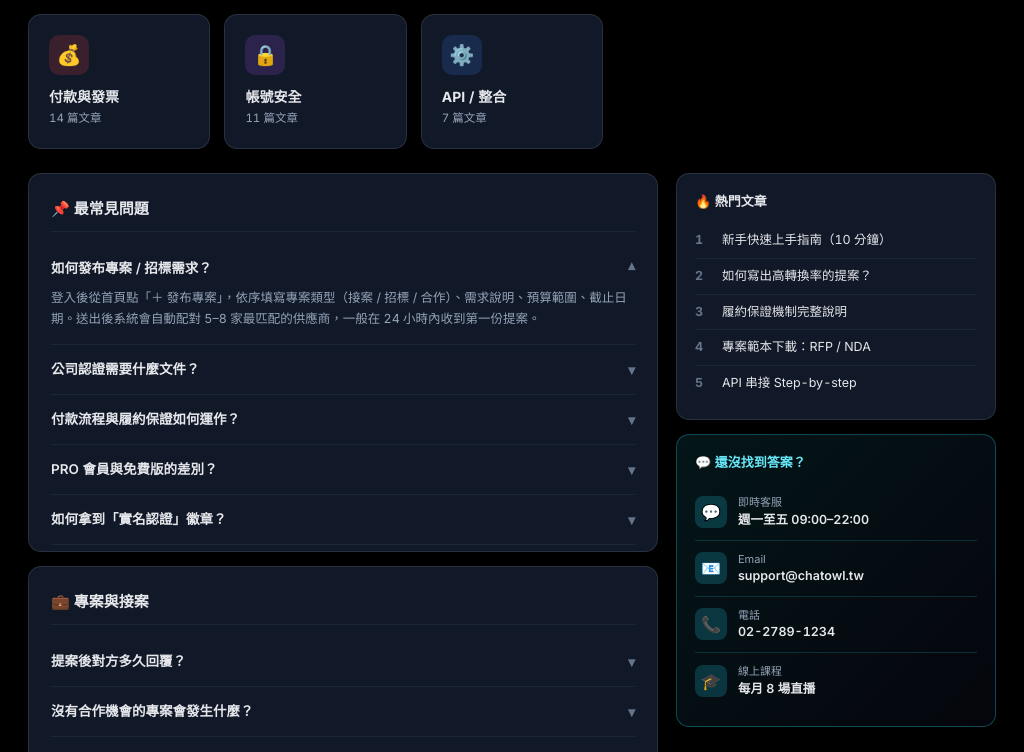
Test case: HelpPage › clicking a collapsed FAQ item expands it
(page scrolled)
What coordinates should you click on to do the following:
click the button "公司認證需要什麼文件？ ▾"
I would click on:
 (125, 369)
Its box is [51,358,635,380].
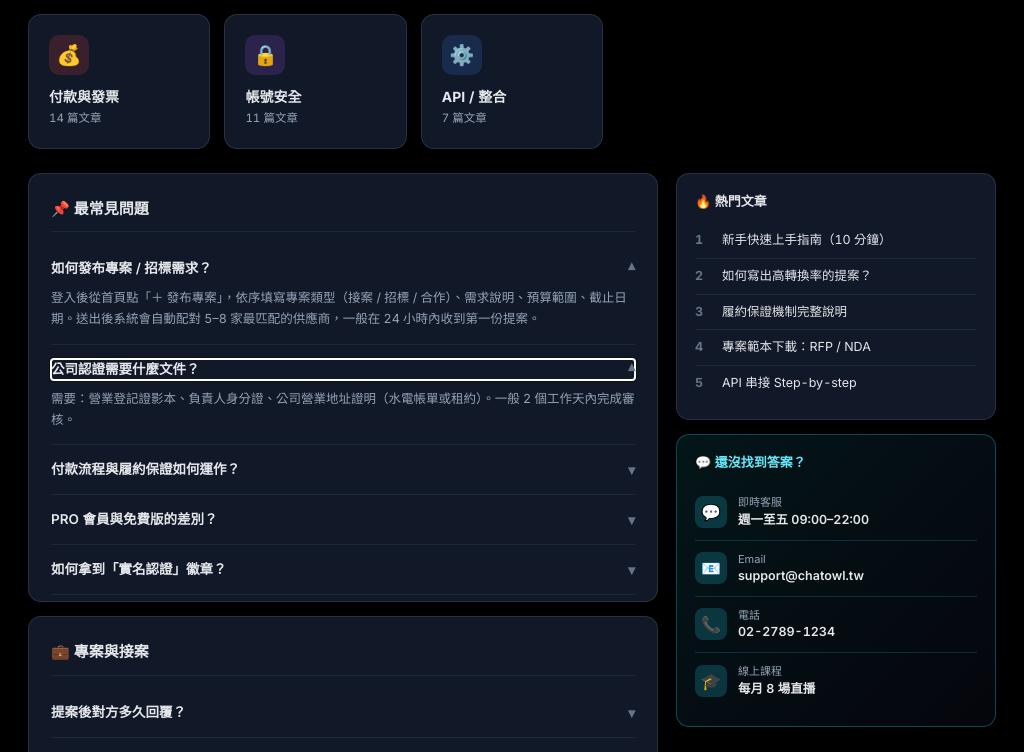
Expected: the button "公司認證需要什麼文件？ ▾" is expanded, [51,358,635,380]
Expected: the text "需要：營業登記證影本、負責人身分證、公司營業地址證明（水電帳單或租約）。一般 2 個工作天內完成審核。" is shown, [51,380,635,430]
